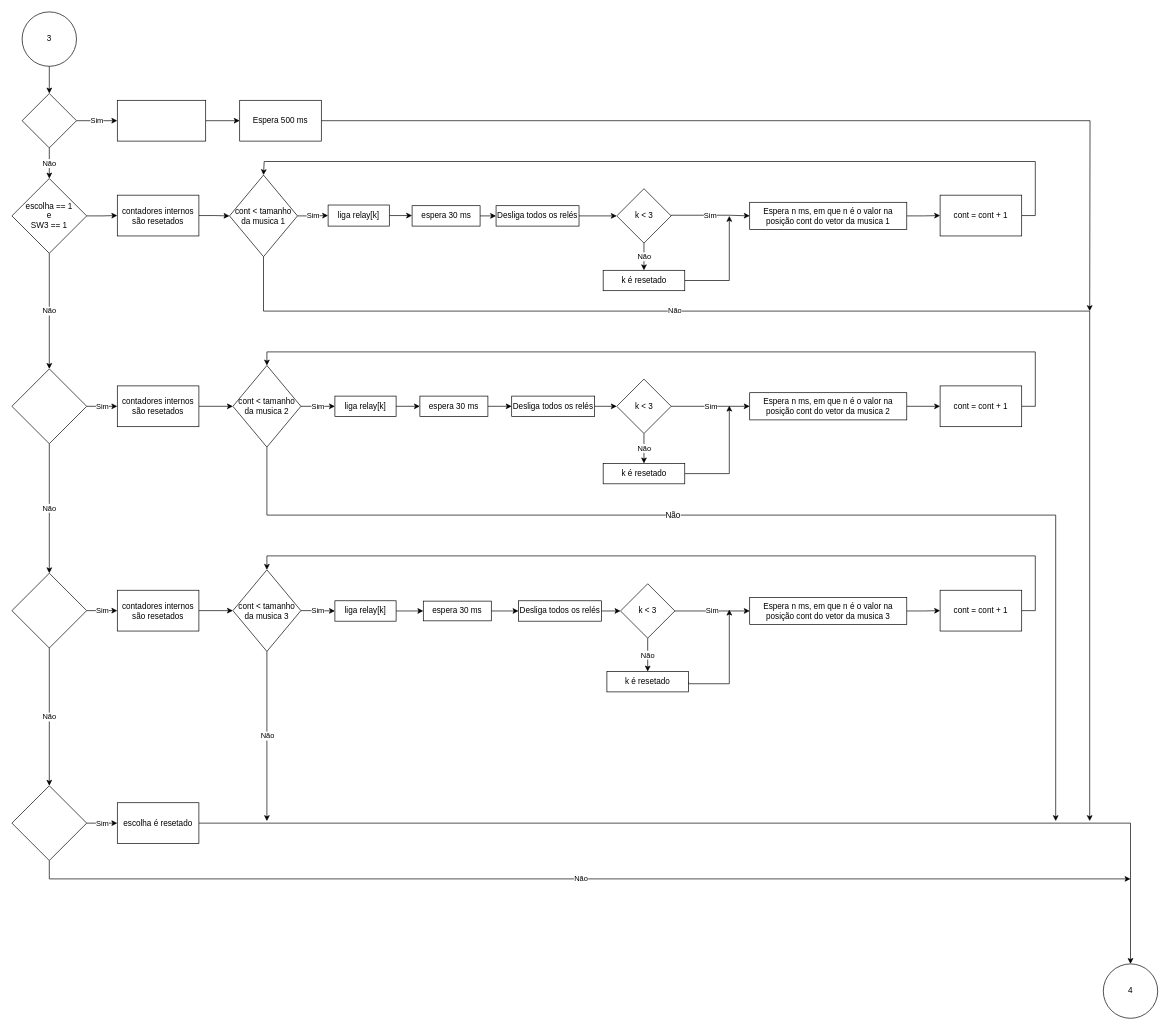
Image size: 1170x1030. Some labels were removed from this diagram. Each missing label, with the box of its shape:
escolha = escolha + 1: (117, 100, 206, 141)
escolha == 2 e SW3 == 1: (11, 368, 87, 444)
escolha == 3 e SW3 == 1: (11, 573, 87, 648)
escolha == 4: (11, 785, 87, 861)
SW2 == 1: (21, 93, 76, 148)
